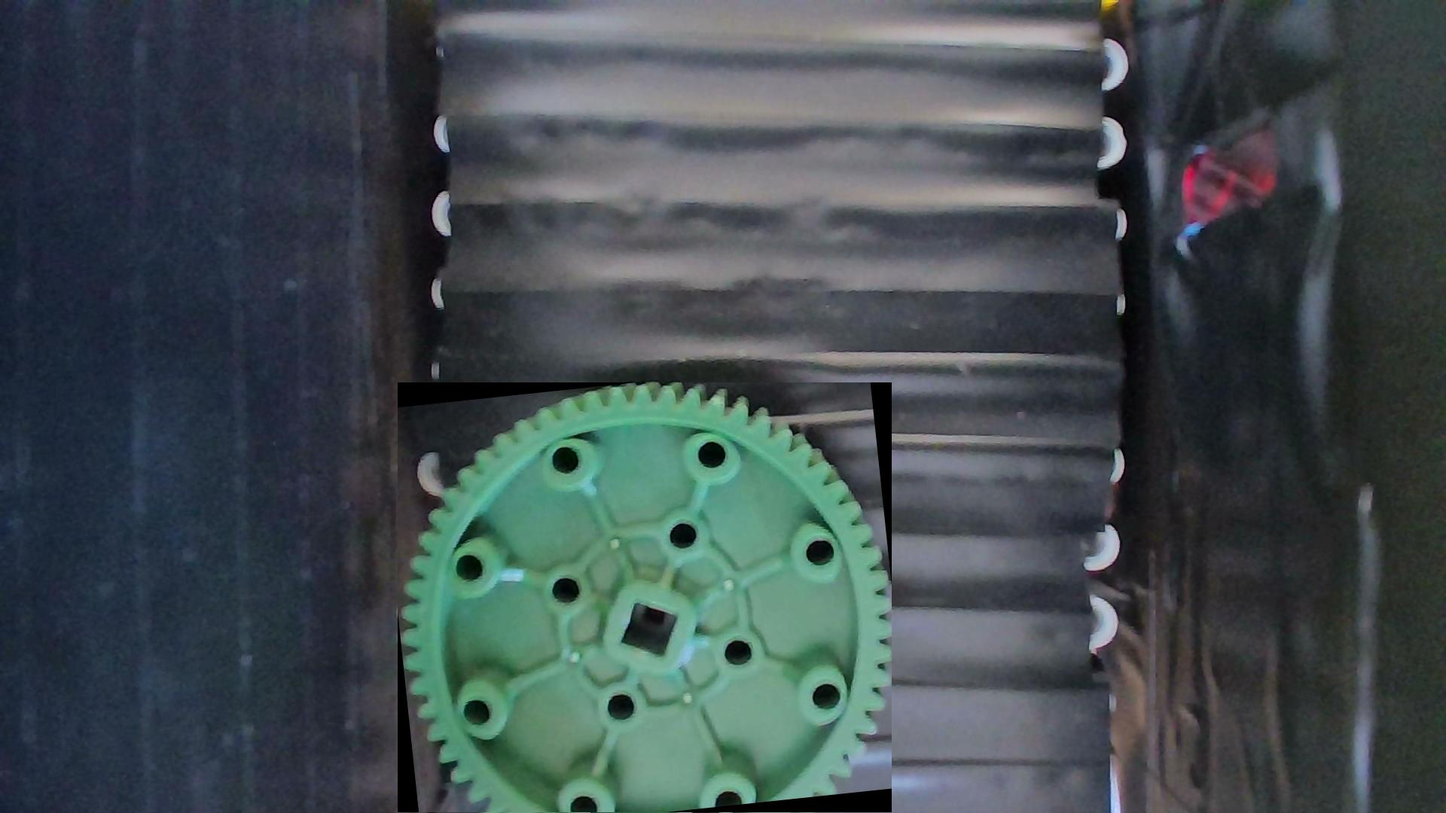gear: (398, 382, 892, 813)
